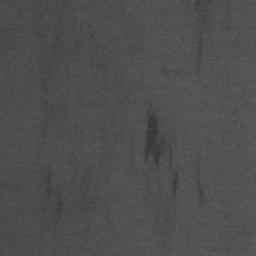Iron scale compression: (145, 105, 160, 164), (195, 155, 204, 205), (169, 143, 177, 197), (196, 29, 203, 79), (47, 167, 53, 204)
